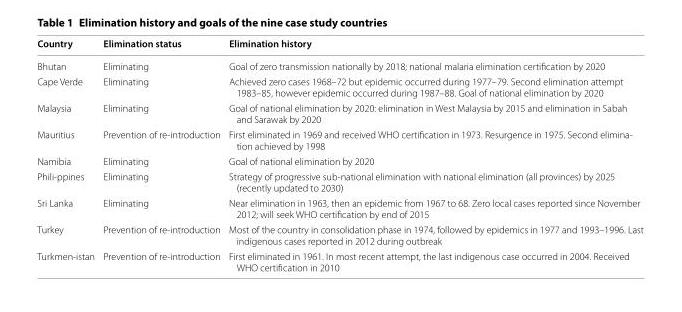table: (36, 36, 642, 272)
table column: (223, 36, 642, 272), (98, 36, 223, 272), (36, 36, 98, 272)
table column header: (36, 36, 642, 54)
table row: (36, 99, 642, 126), (36, 126, 642, 153), (36, 194, 642, 221), (36, 221, 642, 248), (36, 73, 642, 99), (36, 168, 642, 194), (36, 248, 642, 272), (36, 54, 642, 73), (36, 36, 642, 54), (36, 153, 642, 168)
